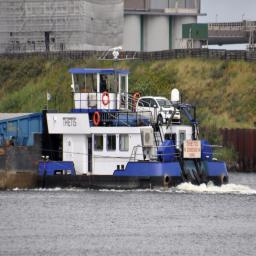tugboat: (36, 46, 231, 196)
